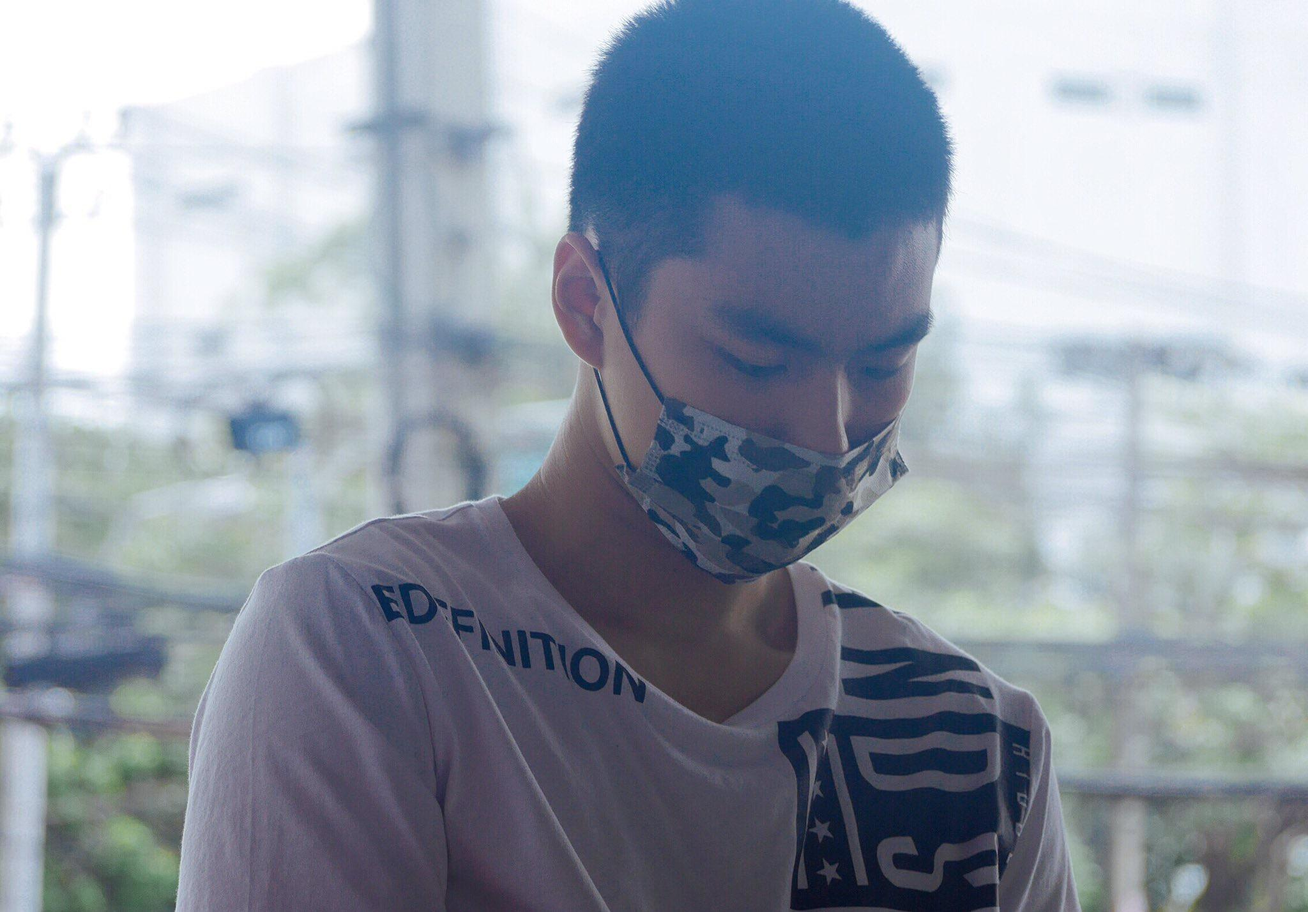WRONG: (622, 271, 917, 566)
